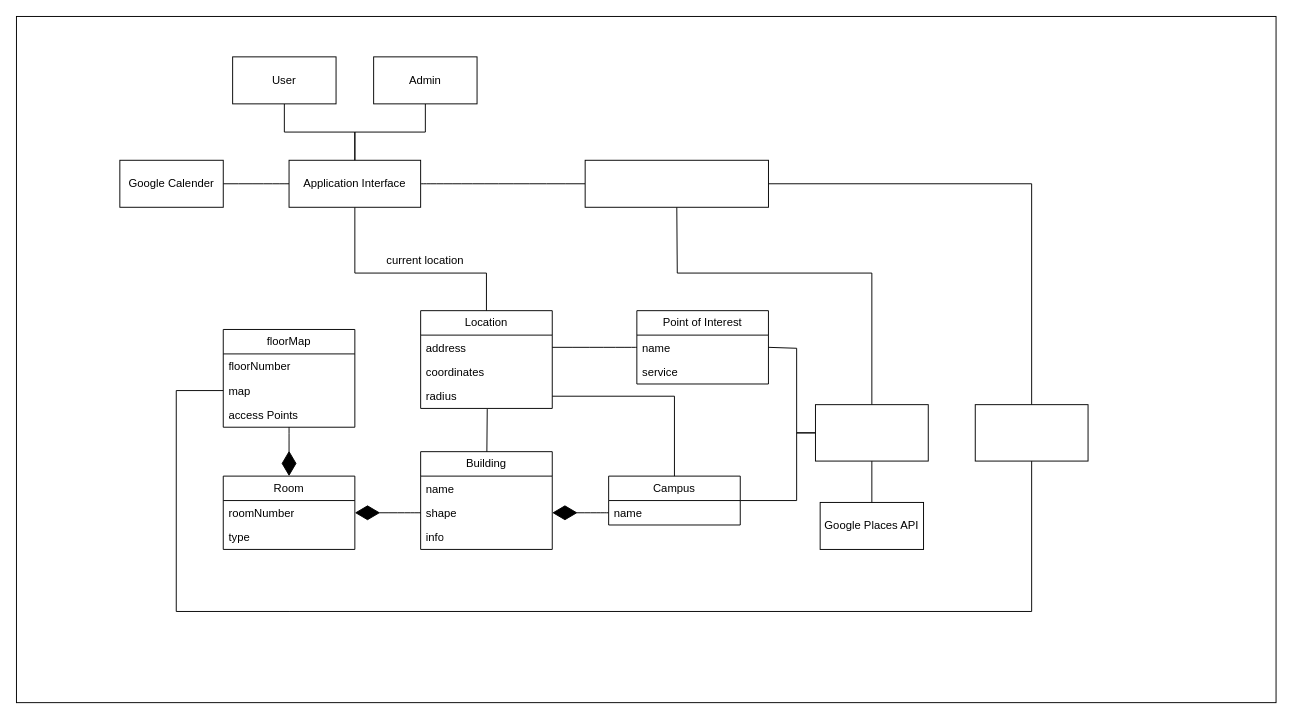
The diagram is 1293 pixels wide and 719 high, and some of its shapes have lost their labels. Here are the shapes that lost their labels. From the top down, the centre of each, then its label:
At point (676, 183): "Application Services".
At point (871, 432): "Outdoor Direction Services".
At point (1031, 432): "Indoor Direction Services".
